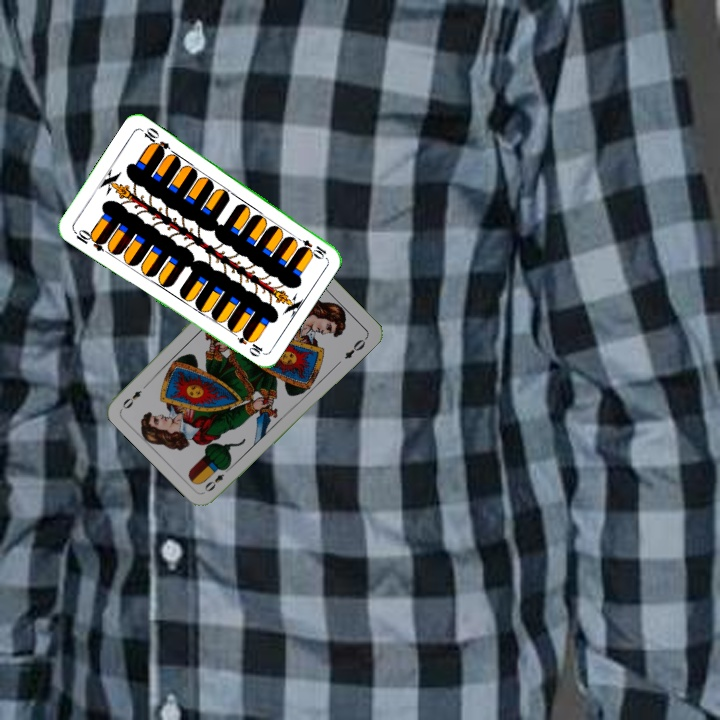E10: (69, 225, 108, 254), (291, 232, 329, 261)
EO: (200, 463, 233, 495)
